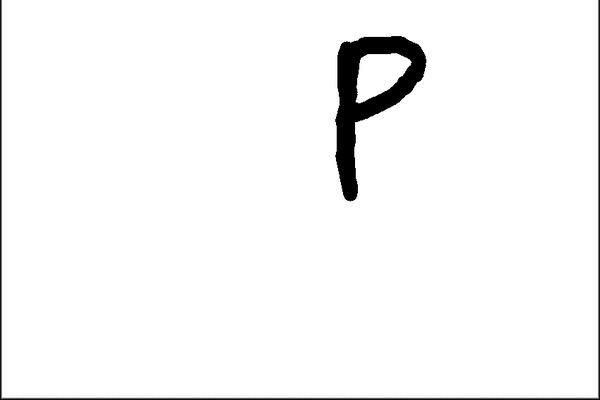P: (327, 27, 431, 206)
